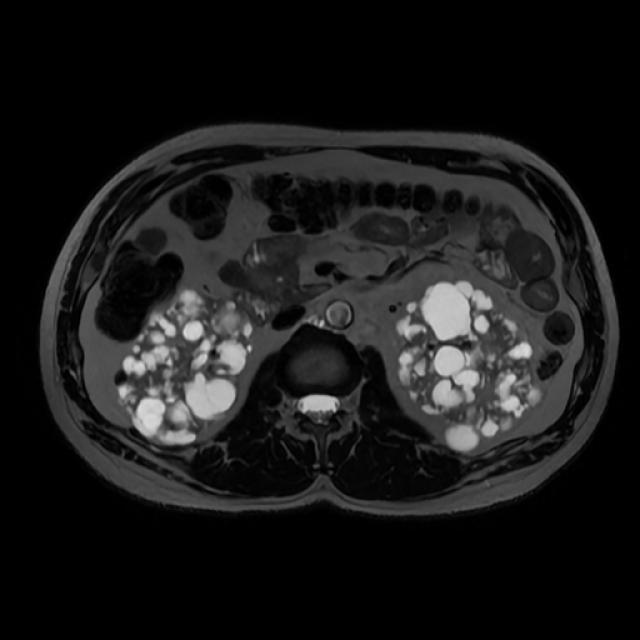sag: (117, 287, 258, 444)
sol: (396, 279, 542, 447)
